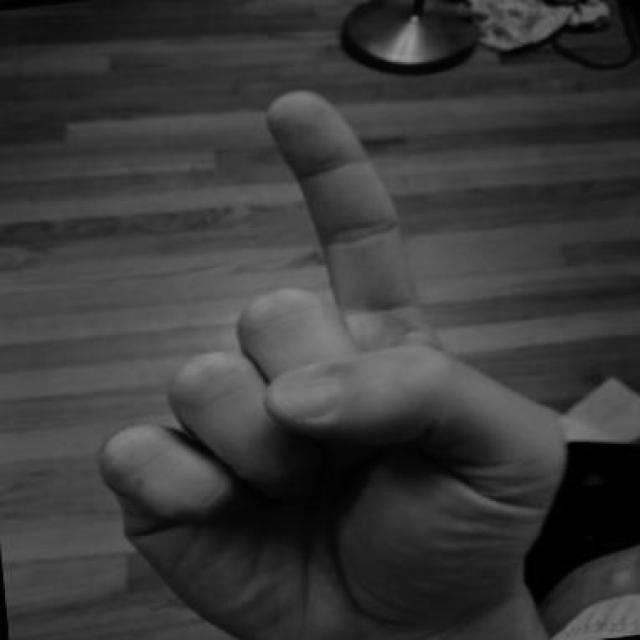D: (55, 56, 600, 638)
